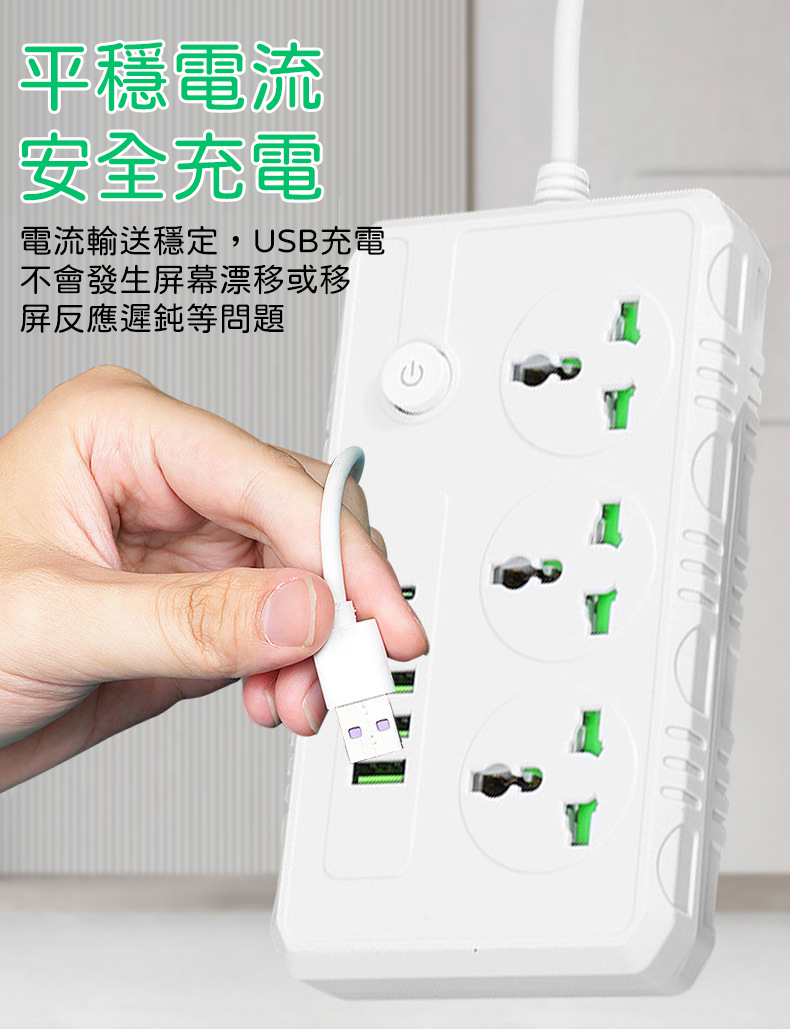socket: (271, 158, 774, 1010)
